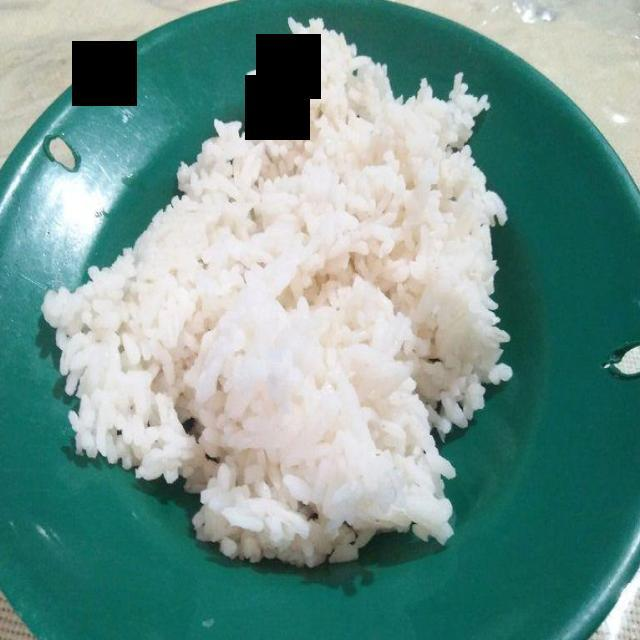rice: (45, 14, 517, 575)
